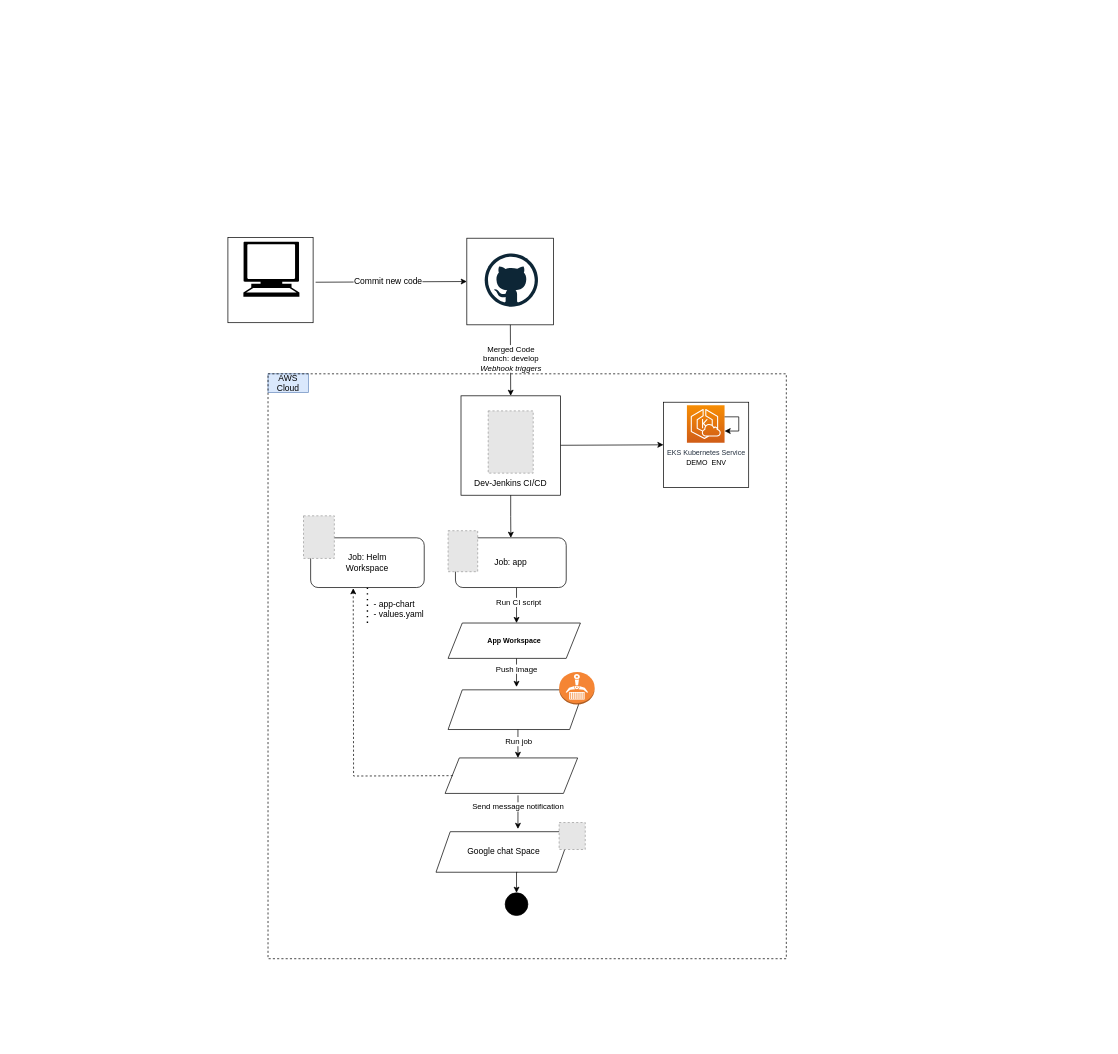
The diagram is 1118 pixels wide and 1054 high, and some of its shapes have lost their labels. Grey dashed boxes stand in for pictures. Here are the shapes that lost their labels. From the top down, the box of each, then its label:
(243, 241, 299, 296): Developer (Local PC/ Laptop)
(484, 253, 538, 307): Github Repositories
(447, 689, 584, 730): ECR (Amazon Elastic Container Registry) (DEMO ENV)
(444, 757, 578, 793): Helm upgrade cmd Helm Workspace
